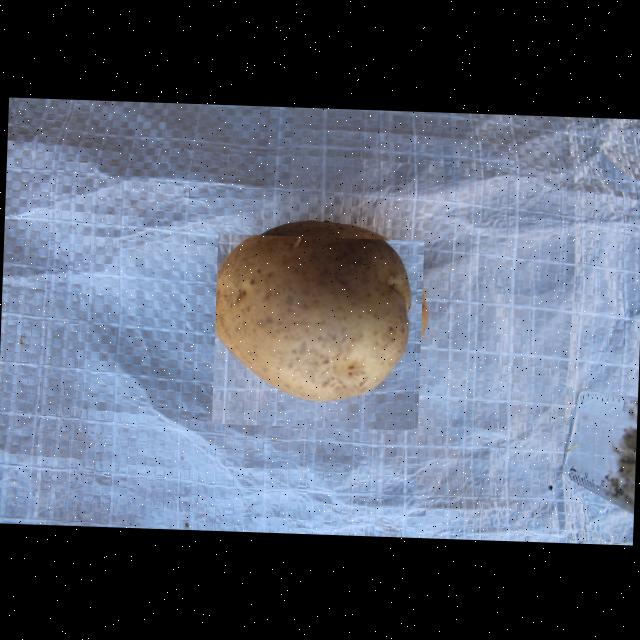Diseased-fungal potato: (210, 232, 423, 430)
